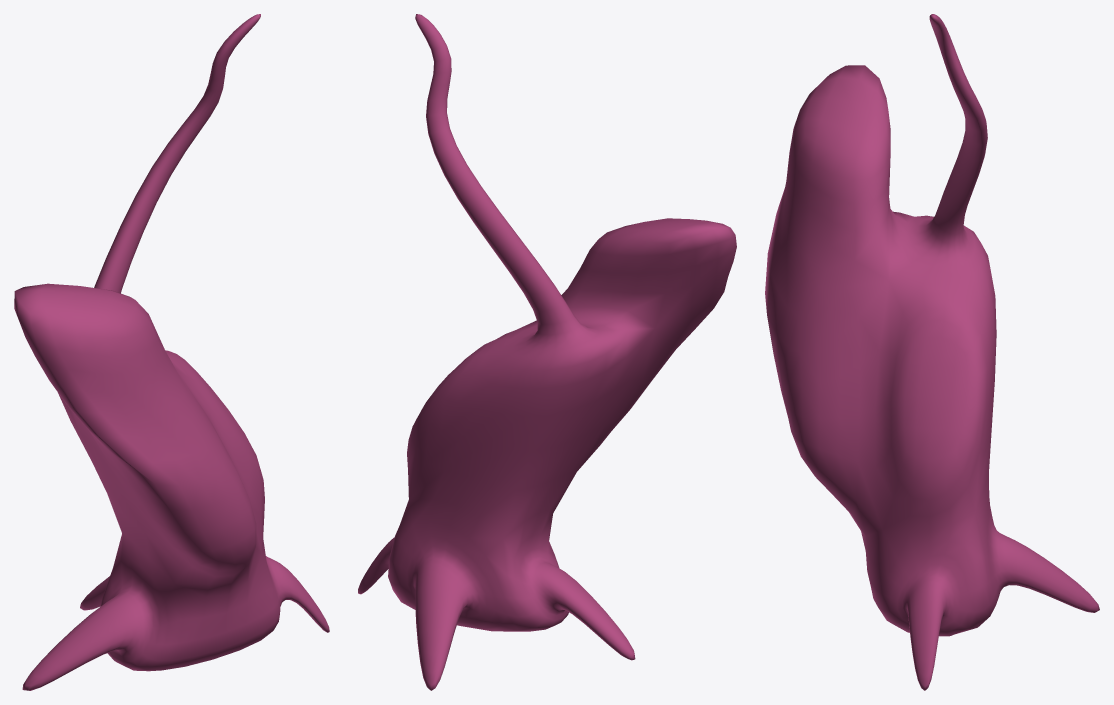
3 renders of one model, left to right at view 1: azimuth 30°, elevation 25°; view 2: azimuth 150°, elevation 25°; view 3: azimuth 270°, elevation 25°, orthographic. The views are drawn at different scales.
Visible parts, largest first — view 1: Continuous aged trunk and primary branches; view 2: Continuous aged trunk and primary branches; view 3: Continuous aged trunk and primary branches.
Boxes of the visible parts, x1=… form: Continuous aged trunk and primary branches: x1=14, y1=14, x2=329, y2=690; Continuous aged trunk and primary branches: x1=358, y1=14, x2=736, y2=690; Continuous aged trunk and primary branches: x1=765, y1=14, x2=1099, y2=690.
Bounding box in the file's own units: 0.875 × 1.5 × 0.7063.
